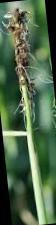Rice: (14, 16, 27, 31), (15, 32, 28, 43), (16, 58, 28, 69), (16, 46, 28, 55), (14, 7, 19, 13), (20, 11, 25, 15), (9, 25, 13, 30), (18, 71, 23, 75)
